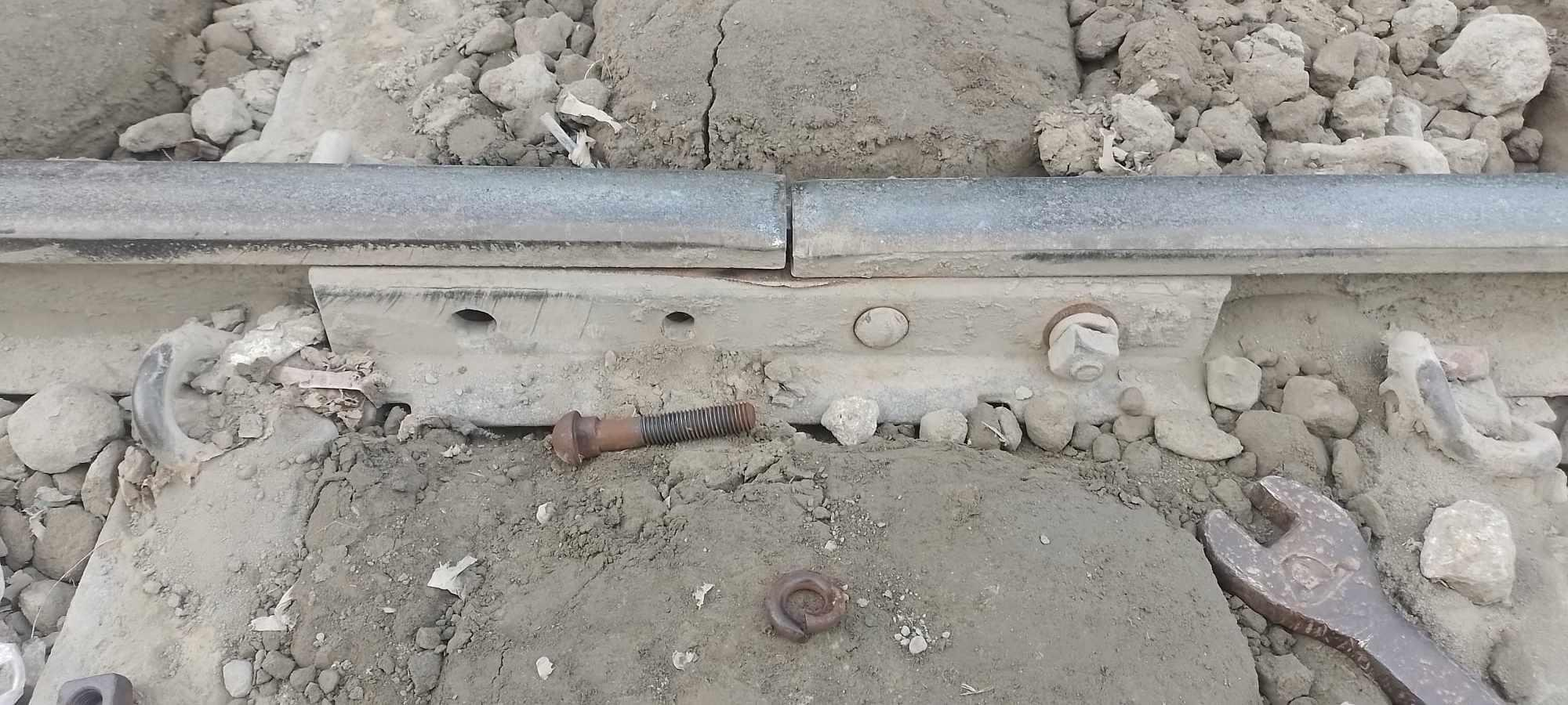railway-gap: (710, 160, 867, 298)
